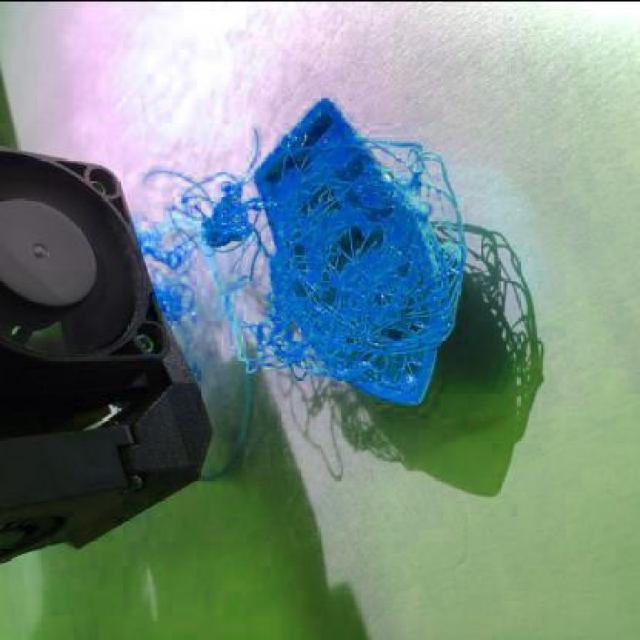spaghetti: (136, 128, 467, 382)
